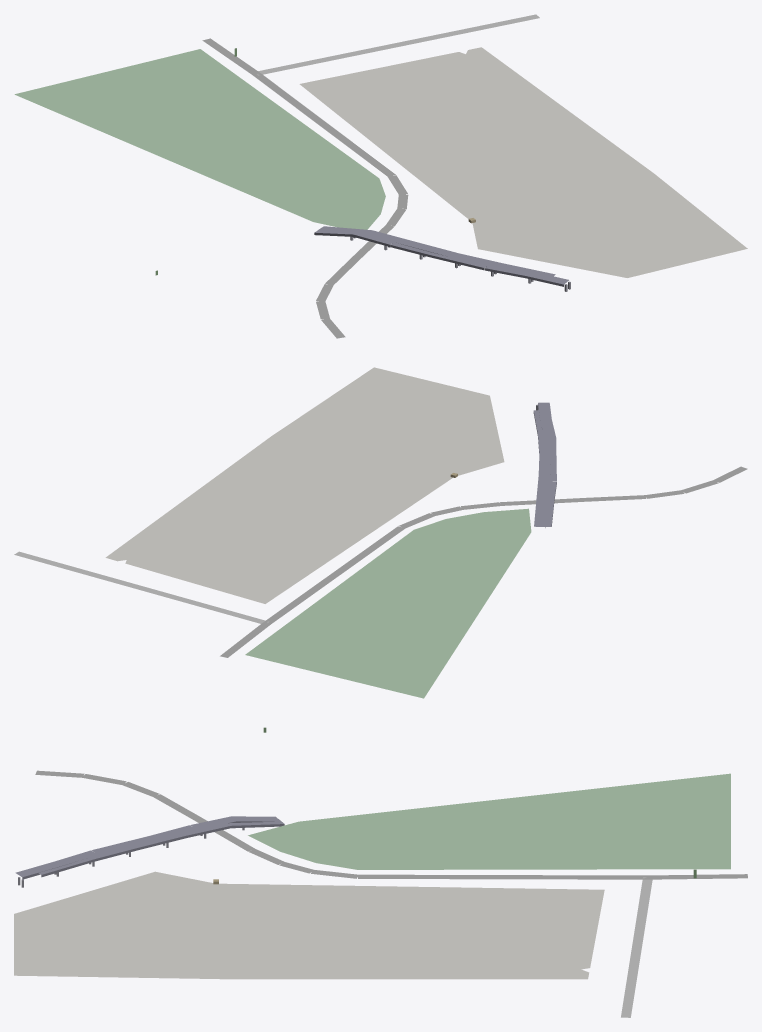
The picture shows the model from 3 angles, top to bottom: view 1: azimuth 30°, elevation 25°; view 2: azimuth 150°, elevation 25°; view 3: azimuth 270°, elevation 25°; orthographic projection. The views are drawn at different scales.
Size of the model in its own units: 469 by 9.4 by 512.
